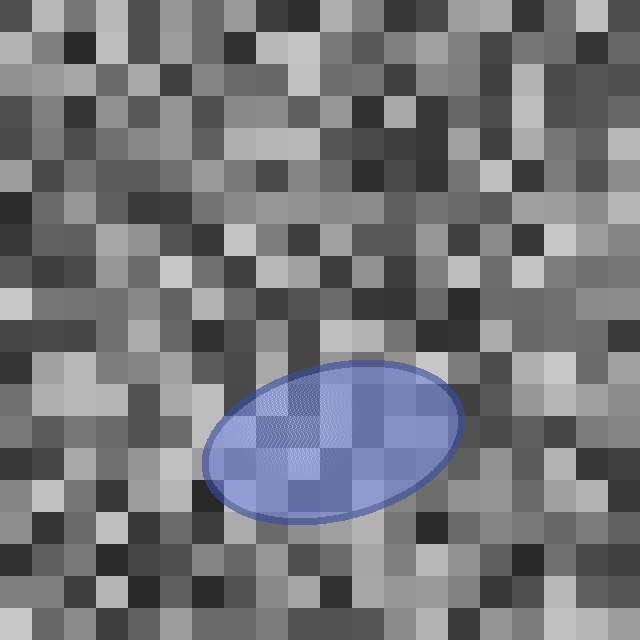lens: (206, 363, 460, 521)
